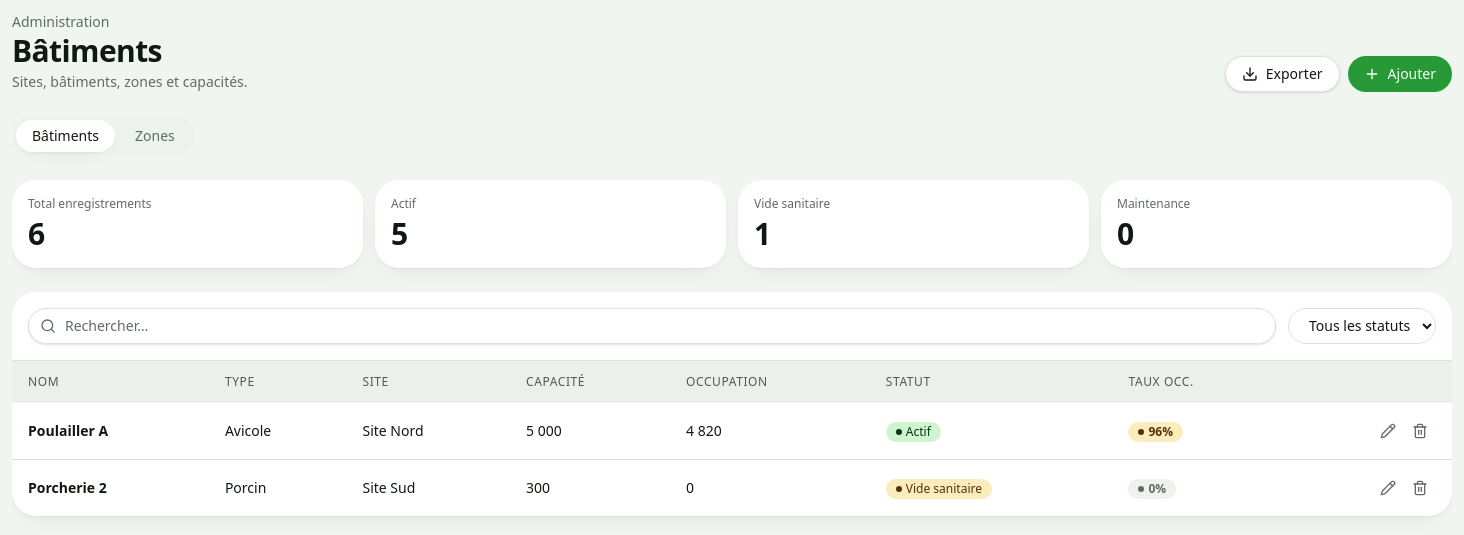
Test: ModulePage keyboard accessibility › moves focus into the export menu, walks it with arrows, and Escape restores focus
Check: the text "Poulailler A" is shown, box 12,402 -> 209,459
Click the button "Exporter".
click(1282, 74)  # box 1225,56 -> 1340,92
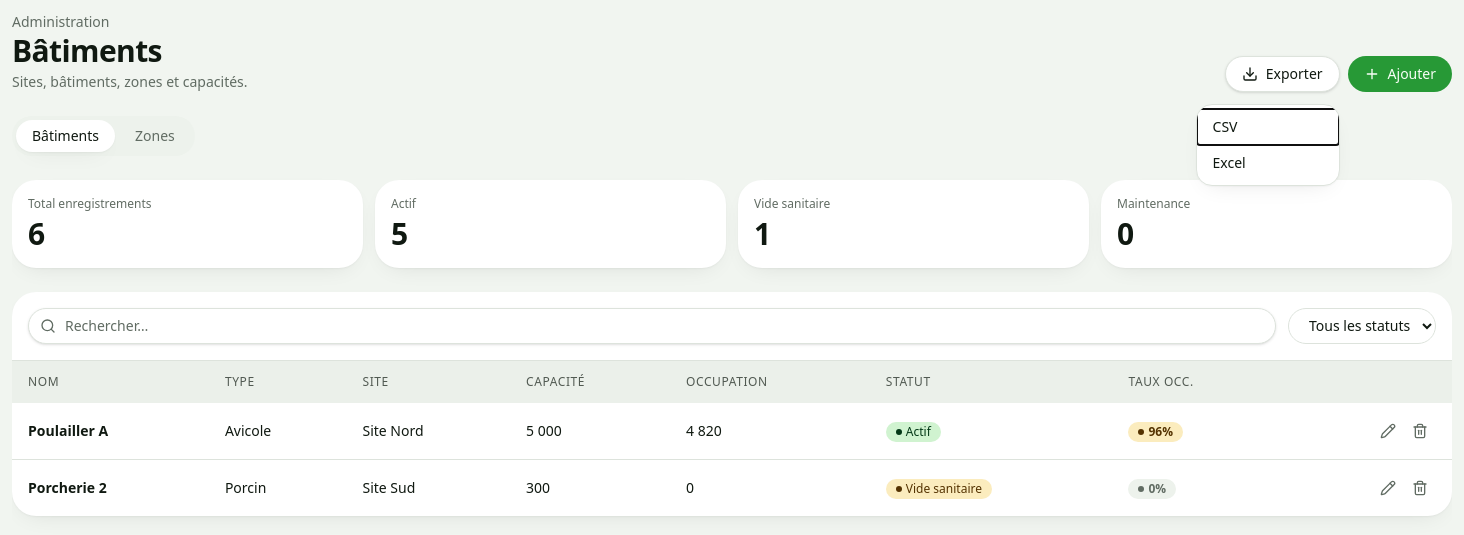
Press Arrowdown
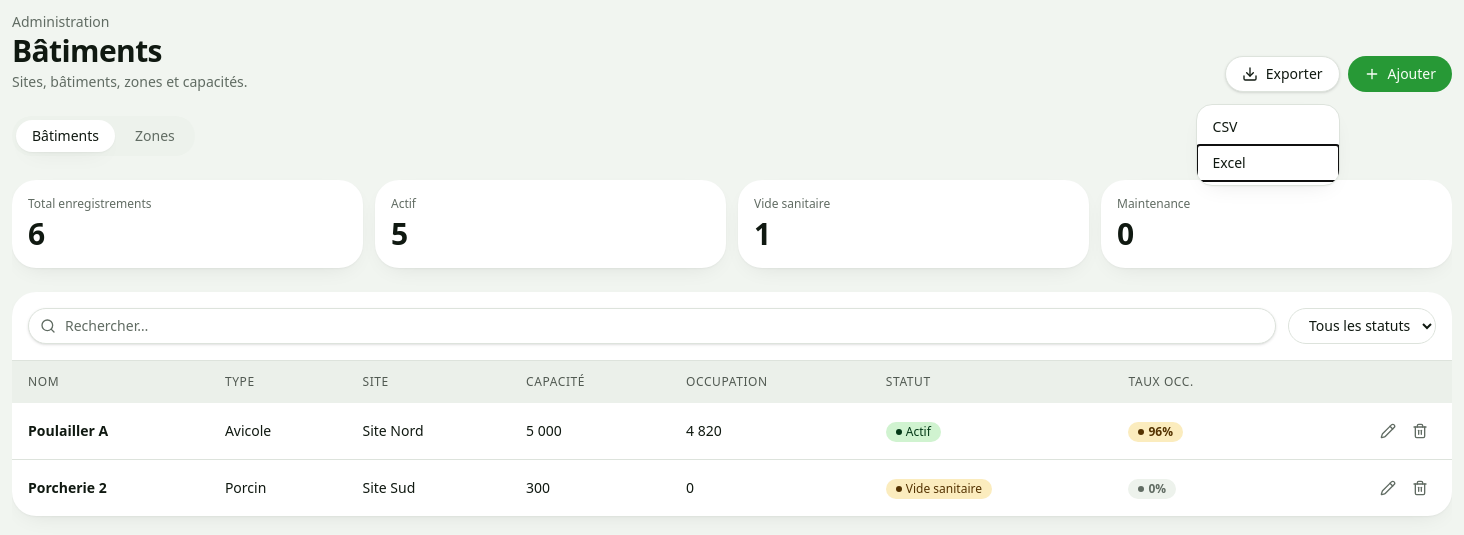
Press Arrowdown
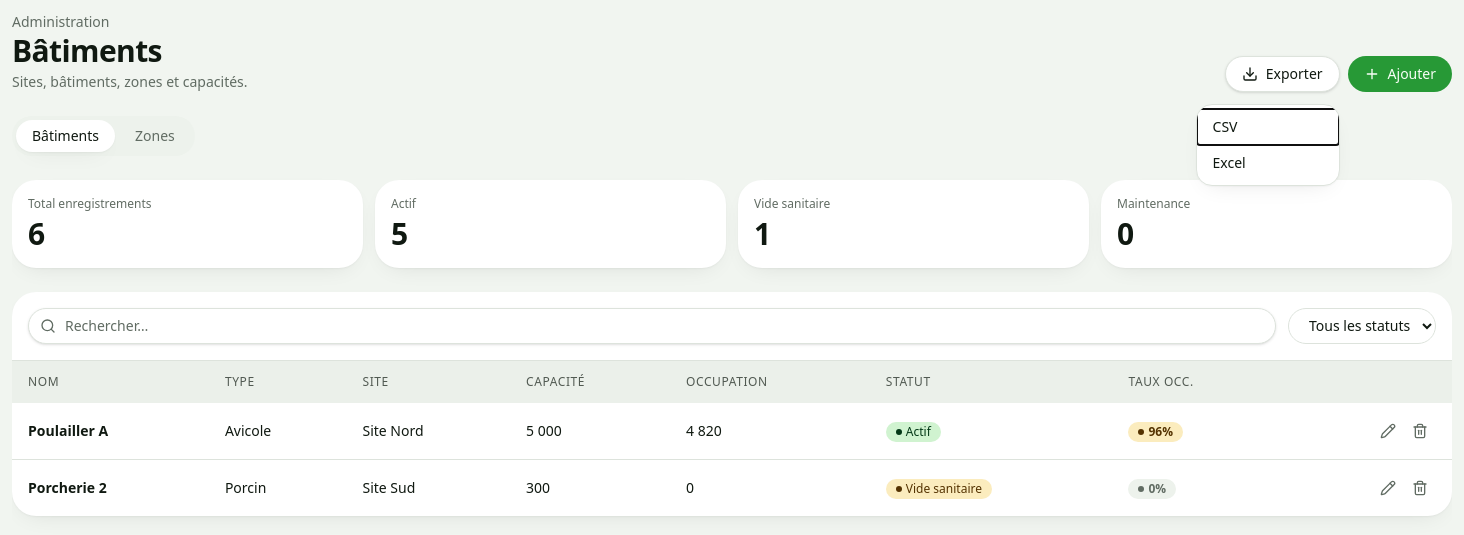
Press Escape
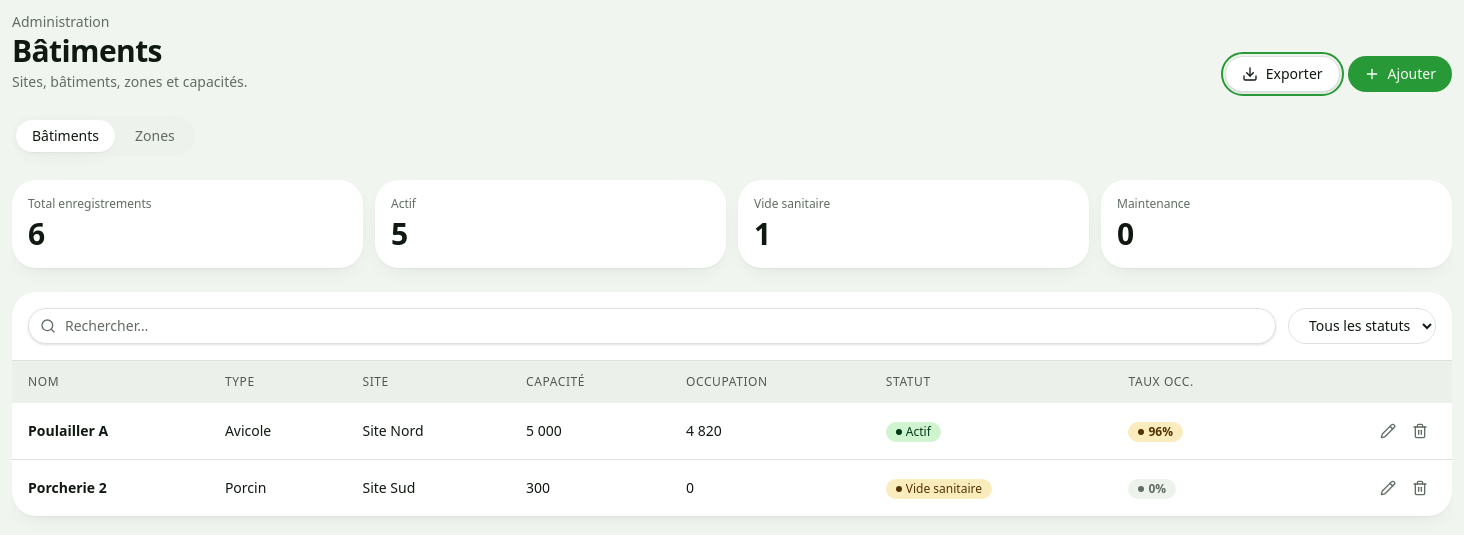
Check: the menu is gone
